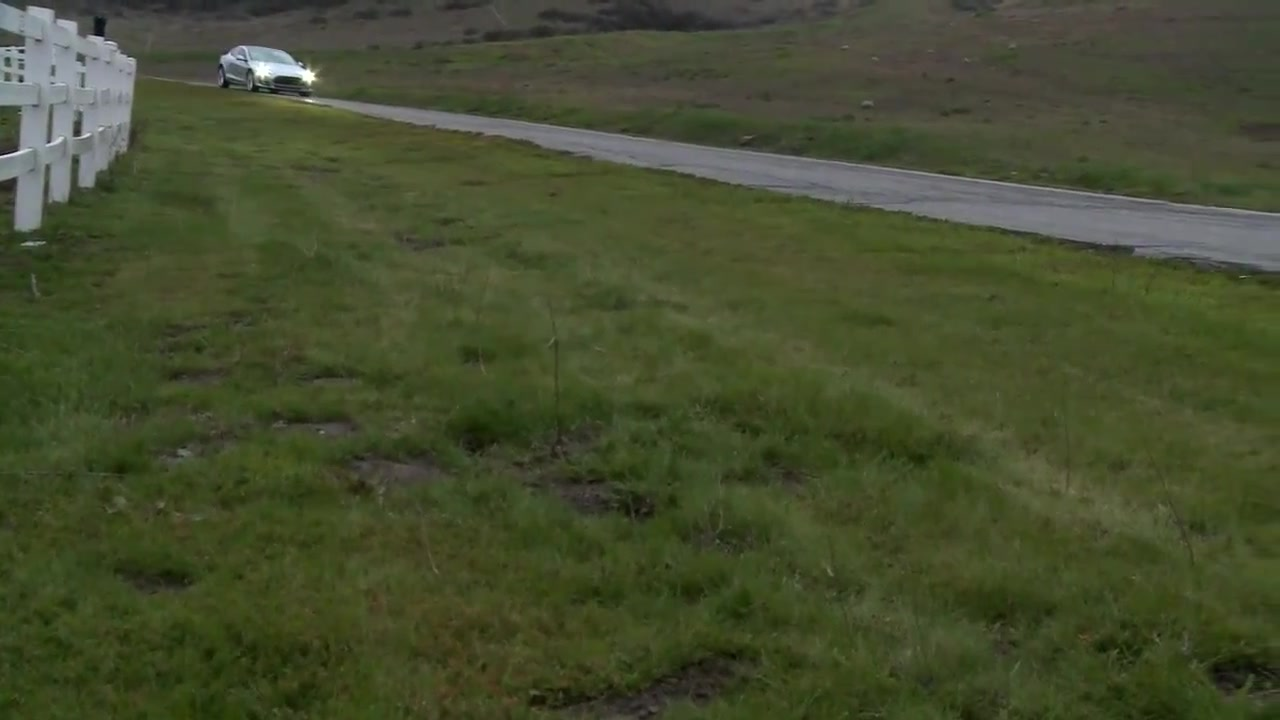car: (212, 41, 321, 99)
